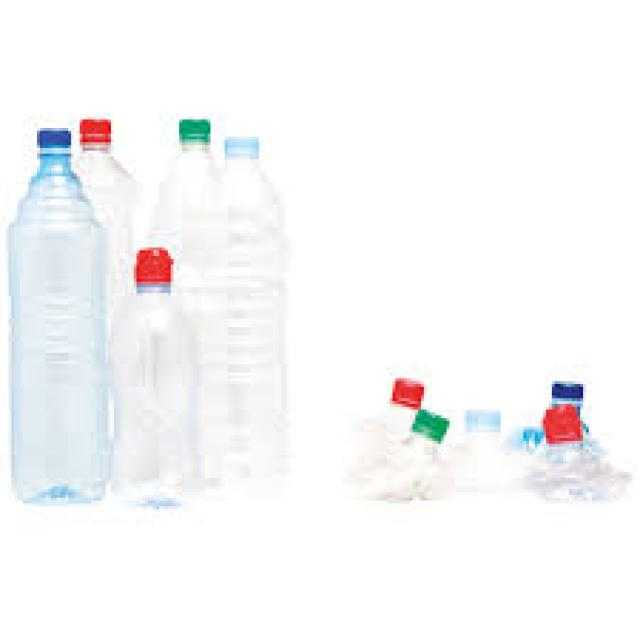plastic: (3, 128, 105, 501), (208, 134, 279, 484), (111, 248, 196, 509), (154, 117, 219, 458), (71, 117, 137, 307), (524, 404, 629, 501), (361, 412, 447, 498), (509, 378, 595, 458), (449, 401, 512, 501), (355, 379, 424, 470), (538, 404, 586, 444), (131, 245, 171, 287), (174, 114, 214, 142), (467, 404, 501, 435), (410, 407, 444, 438), (387, 375, 421, 404), (222, 131, 259, 156), (77, 117, 108, 145), (546, 378, 583, 401), (34, 128, 68, 148)
